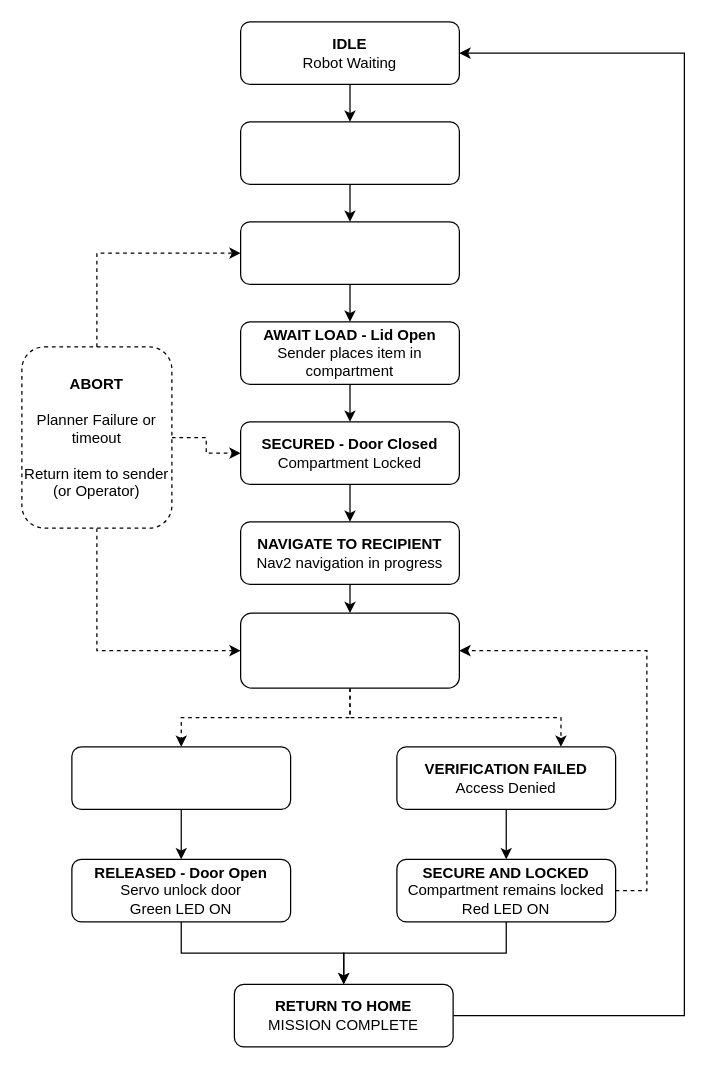
Some shapes in this 716 by 1069 pixel diagram are drawn without their labels. The box of each missing label's shape, as (x1, y1, x2, y2) in pixels:
ARRIVED + AWAIT FACE VERIFICATION Receiver verification via web interface: (239, 612, 459, 688)
NAVIGATE TO SENDER Nav2 navigation in progress: (239, 221, 459, 284)
TASK ASSIGNED Delivery request received: (239, 121, 459, 184)
VERIFICATION SUCCESS Unlock command sent: (71, 746, 291, 809)
